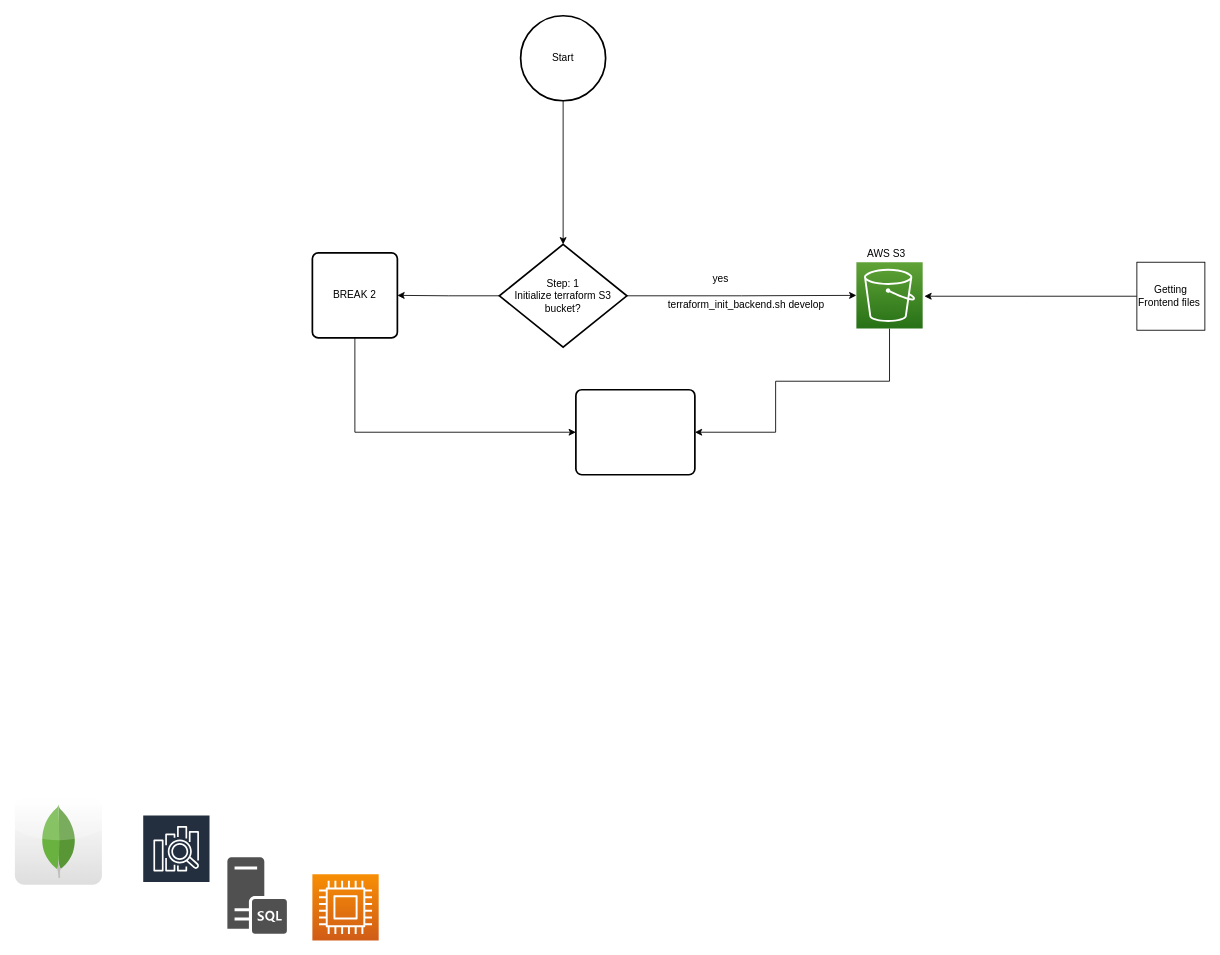
Some shapes in this 1220 by 955 pixel diagram are drawn without their labels. Here are the shapes that lost their labels. From the top down, the box of each, then its label:
(575, 388, 695, 475): Setting env_vars
(142, 814, 210, 917): Amazon Elasticsearch Service
